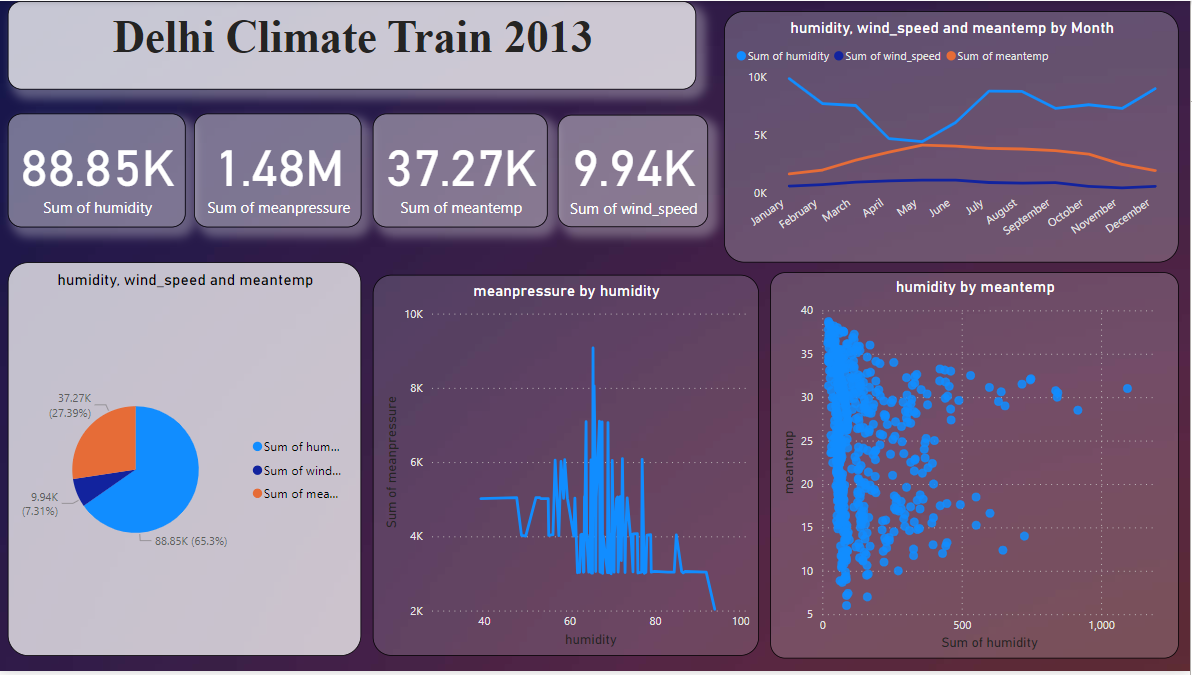

Layout of this report page (visuals, bound fields, positions):
{"tool":"powerbi","page":{"name":"Page 1","canvas":[1280,720],"ordinal":0},"visuals":[{"type":"textbox","box":[9.4,0,740.4,95.4],"z":0},{"type":"pieChart","title":"humidity, wind_speed and meantemp","fields":{"Y":["Sum(DailyDelhiClimateTrain.humidity)","Sum(DailyDelhiClimateTrain.wind_speed)","Sum(DailyDelhiClimateTrain.meantemp)"]},"box":[9.4,280.8,380.3,423.3],"z":1000},{"type":"areaChart","title":"meanpressure by humidity","fields":{"Category":["DailyDelhiClimateTrain.humidity"],"Y":["Sum(DailyDelhiClimateTrain.meanpressure)"]},"box":[401.8,294.3,415.2,409.8],"z":2000},{"type":"lineChart","title":"humidity, wind_speed and meantemp by Month","fields":{"Category":["DailyDelhiClimateTrain.date.Variation.Date Hierarchy.Month"],"Y":["Sum(DailyDelhiClimateTrain.humidity)","Sum(DailyDelhiClimateTrain.wind_speed)","Sum(DailyDelhiClimateTrain.meantemp)"]},"box":[779.3,10.7,489.1,270.1],"z":3000},{"type":"scatterChart","title":"humidity by meantemp","fields":{"X":["Sum(DailyDelhiClimateTrain.humidity)"],"Y":["DailyDelhiClimateTrain.meantemp"]},"box":[829.1,291.6,439.4,415.2],"z":4000},{"type":"card","fields":{"Values":["Sum(DailyDelhiClimateTrain.humidity)"]},"box":[9.4,120.9,190.8,122.3],"z":5000},{"type":"card","fields":{"Values":["Sum(DailyDelhiClimateTrain.meanpressure)"]},"box":[209.6,120.9,180.1,122.3],"z":6000},{"type":"card","fields":{"Values":["Sum(DailyDelhiClimateTrain.meantemp)"]},"box":[401.8,120.9,188.1,122.3],"z":7000},{"type":"card","fields":{"Values":["Sum(DailyDelhiClimateTrain.wind_speed)"]},"box":[600.6,122.3,161.2,120.9],"z":8000}]}

Visuals, with their boxes in screenshot pixels (x1, y1, x2, y2), scaled from the page's 1280x720 canvas onto the 1192x675 screenshot:
textbox: <box>9,0,698,89</box>
"humidity, wind_speed and meantemp" pieChart: <box>9,263,363,660</box>
"meanpressure by humidity" areaChart: <box>374,276,761,660</box>
"humidity, wind_speed and meantemp by Month" lineChart: <box>726,10,1181,263</box>
"humidity by meantemp" scatterChart: <box>772,273,1181,663</box>
card - Sum(DailyDelhiClimateTrain.humidity): <box>9,113,186,228</box>
card - Sum(DailyDelhiClimateTrain.meanpressure): <box>195,113,363,228</box>
card - Sum(DailyDelhiClimateTrain.meantemp): <box>374,113,549,228</box>
card - Sum(DailyDelhiClimateTrain.wind_speed): <box>559,115,709,228</box>
